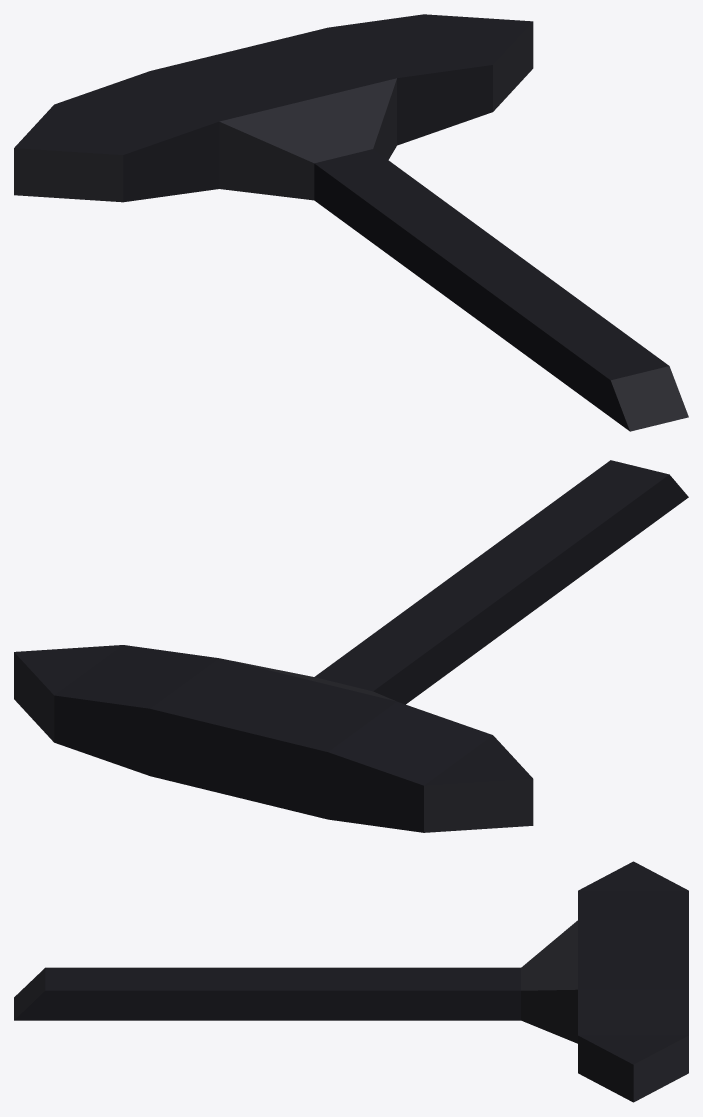
File: MW1_ChargingHandle_5.56mm_02.fbx
3 renders of one model, top to bottom at view 1: azimuth 30°, elevation 25°; view 2: azimuth 150°, elevation 25°; view 3: azimuth 270°, elevation 25°, orthographic. The views are drawn at different scales.
Visible parts, largest first — view 1: ChargingHandle_5.56mm_02; view 2: ChargingHandle_5.56mm_02; view 3: ChargingHandle_5.56mm_02.
Boxes of the visible parts, box(x1,y1,x2,y2) form: ChargingHandle_5.56mm_02: box(14, 14, 688, 431); ChargingHandle_5.56mm_02: box(14, 460, 688, 832); ChargingHandle_5.56mm_02: box(14, 861, 688, 1102).
Bounding box in the file's own units: 9.78 × 1.21 × 13.71.
